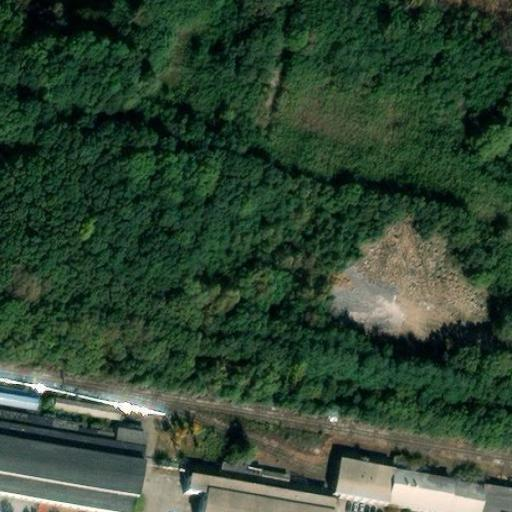building: (0, 449, 140, 512), (331, 467, 512, 512), (183, 484, 333, 512), (50, 391, 124, 420), (0, 396, 34, 419), (111, 433, 144, 451)
